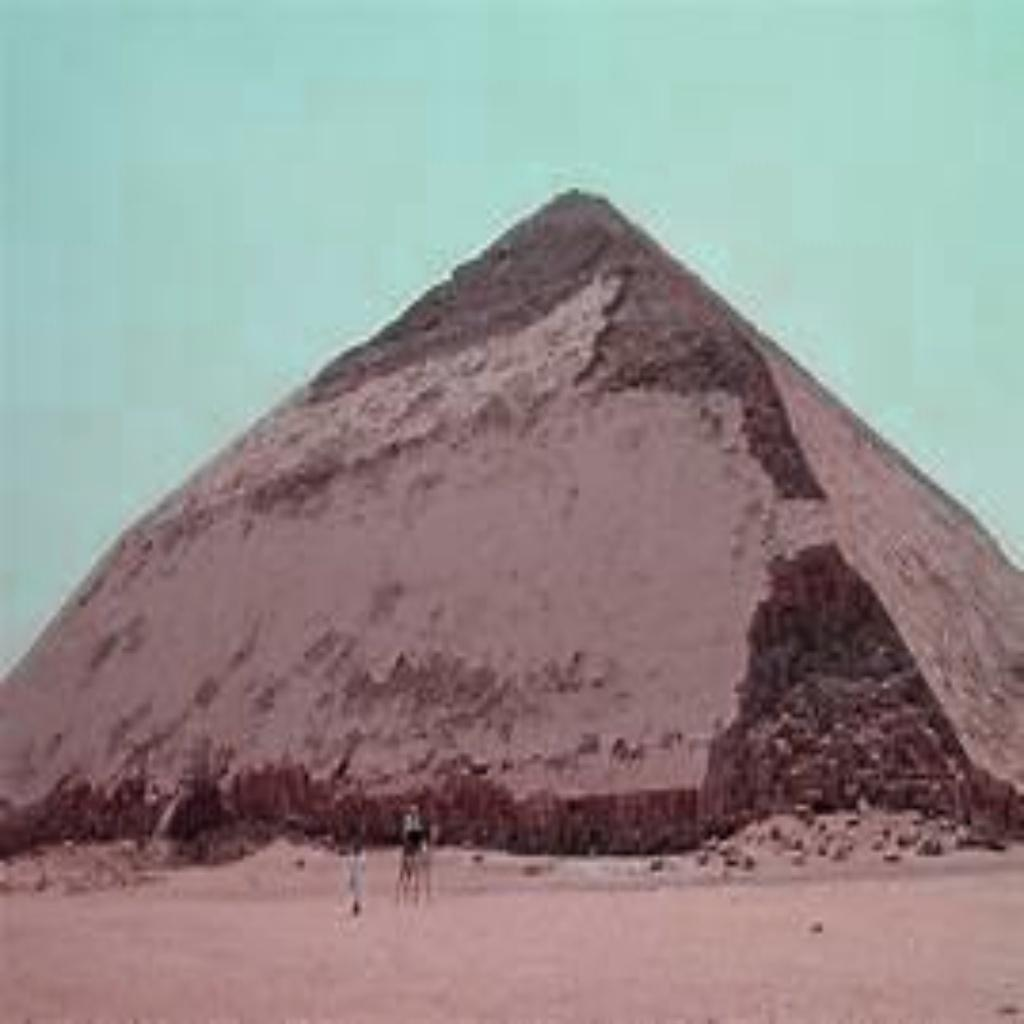Bent Pyramid of King Sneferu: (0, 178, 1020, 856)
